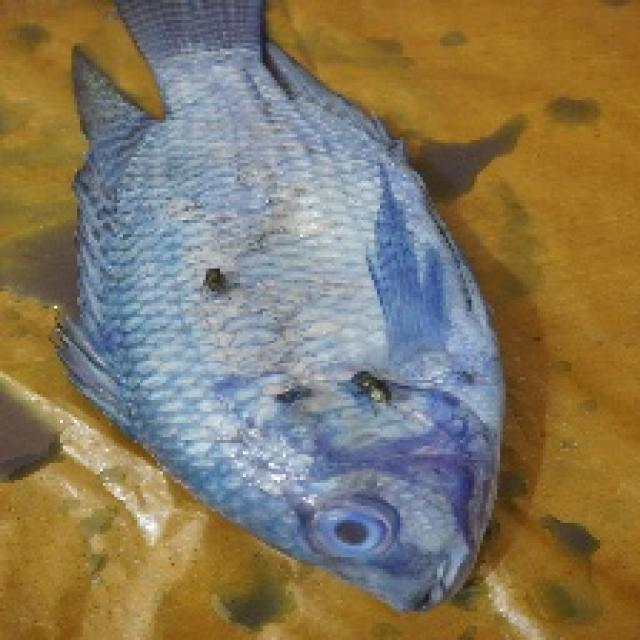Non-Fresh: (70, 156, 543, 620), (304, 487, 407, 575)
